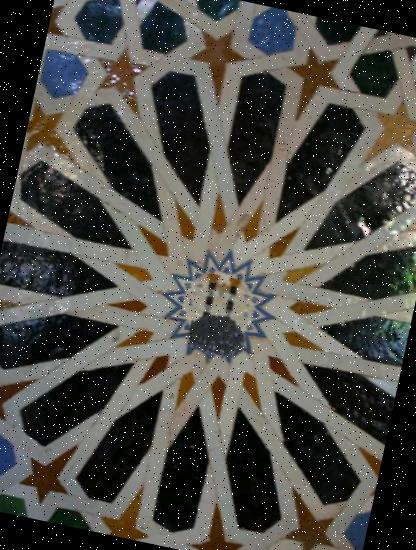Mulberry: (183, 302, 252, 371)
